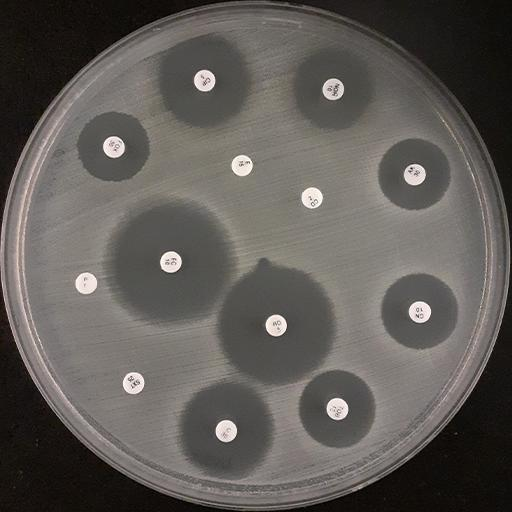disc: (407, 300, 431, 323), (122, 371, 145, 395), (75, 271, 98, 295), (159, 250, 182, 274), (265, 313, 288, 337), (193, 69, 216, 92), (403, 163, 426, 186), (326, 397, 349, 420), (301, 187, 324, 210), (322, 78, 344, 101), (215, 419, 237, 442), (231, 154, 253, 177), (102, 136, 125, 158)
